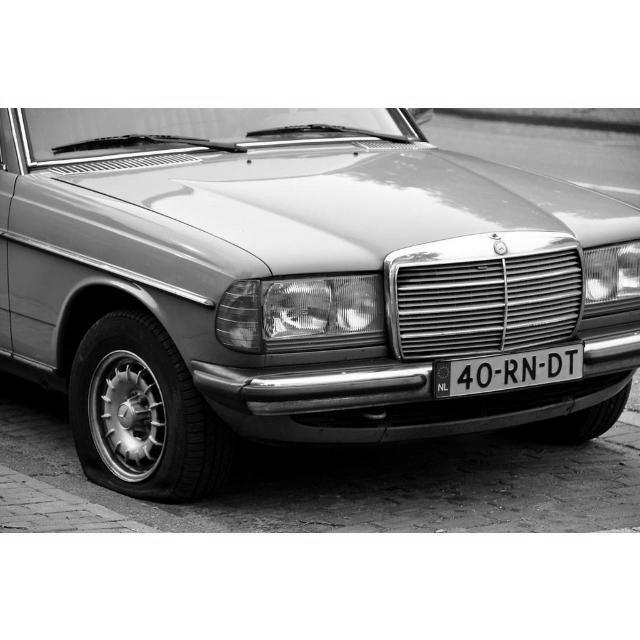bonnet-dent: (77, 148, 629, 248)
